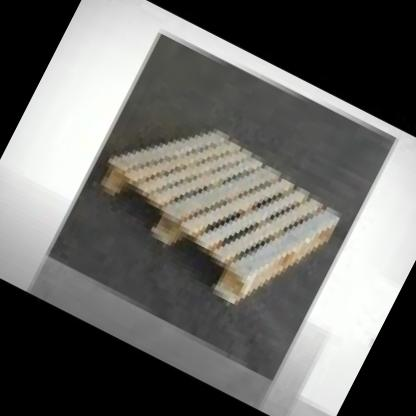BoxFace: (97, 128, 340, 304)
